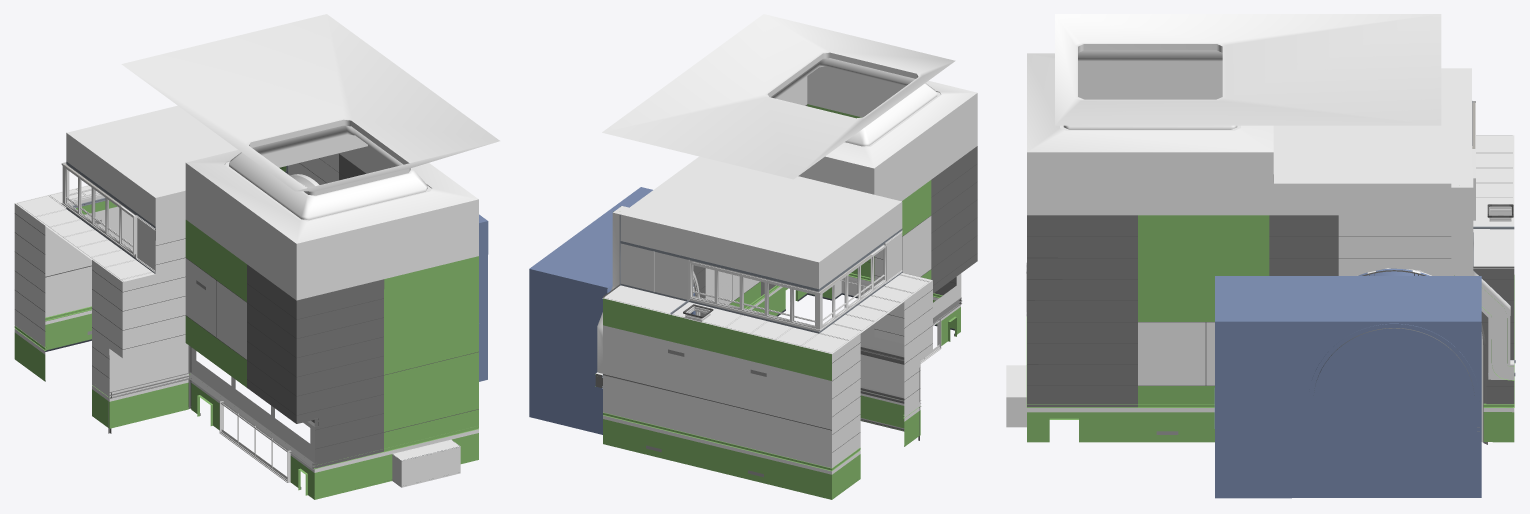
3 views of the same model, side by side, from view 1: azimuth 30°, elevation 25°; view 2: azimuth 150°, elevation 25°; view 3: azimuth 270°, elevation 25° (orthographic). The views are drawn at different scales.
Visible parts, largest first — view 1: SM_H_Building_FutureTech_HBlack_01_InterWall_04H; view 2: SM_H_Building_FutureTech_HBlack_01_InterWall_04H; view 3: SM_H_Building_FutureTech_HBlack_01_InterWall_04H.
Boxes of the visible parts, x1,y1,x2,y2 form: SM_H_Building_FutureTech_HBlack_01_InterWall_04H: [14, 14, 499, 499]; SM_H_Building_FutureTech_HBlack_01_InterWall_04H: [529, 14, 977, 499]; SM_H_Building_FutureTech_HBlack_01_InterWall_04H: [1006, 14, 1515, 498].
Size of the model in its own units: 1806 by 1549 by 1340.
